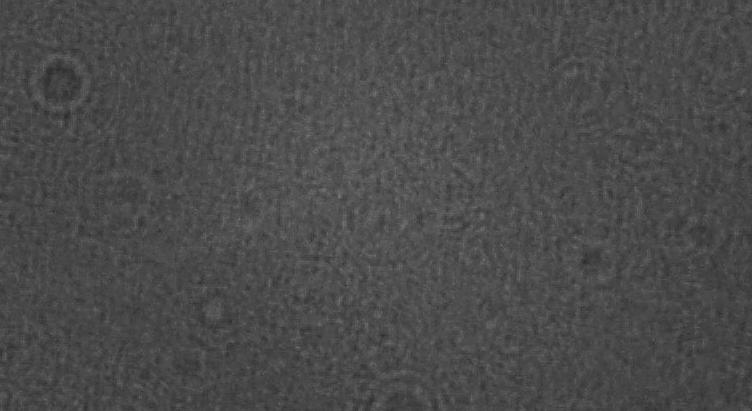bead: (15, 45, 104, 129)
